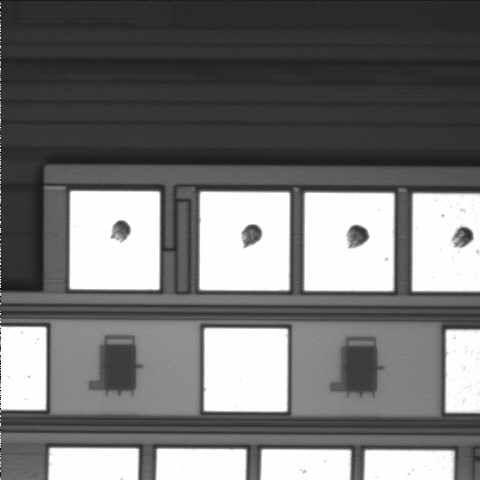pad: (70, 191, 160, 290), (200, 192, 290, 291), (304, 193, 394, 291), (204, 328, 288, 412)
